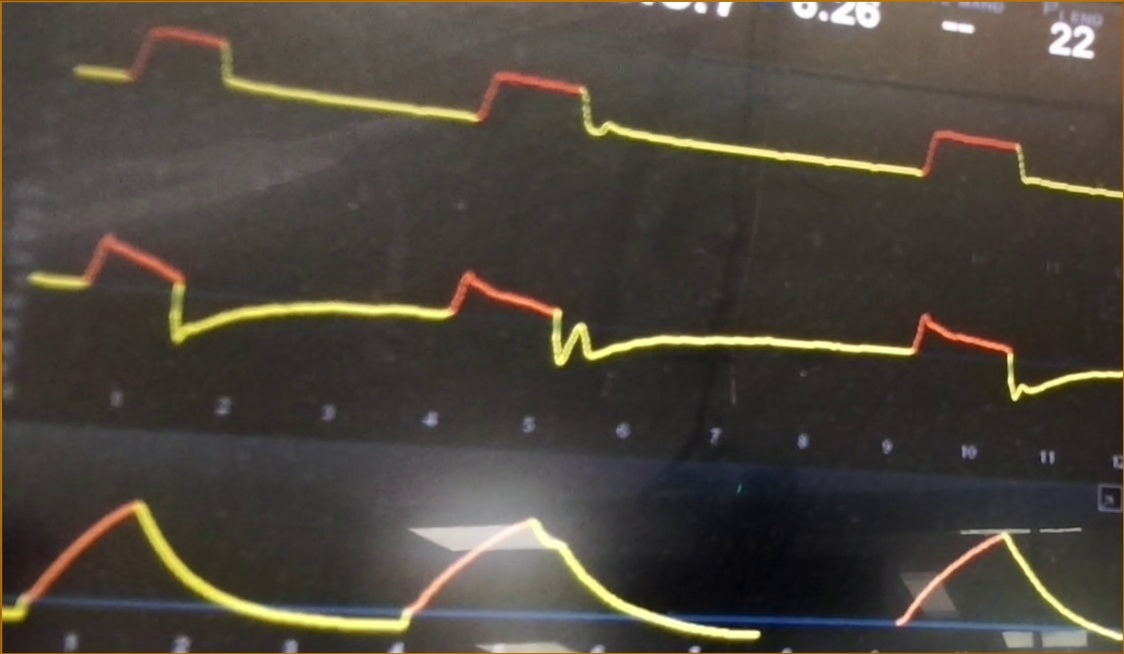Premature_cycling Flow: (34, 227, 1120, 406)
Premature_cycling Volume: (7, 485, 1110, 650)
